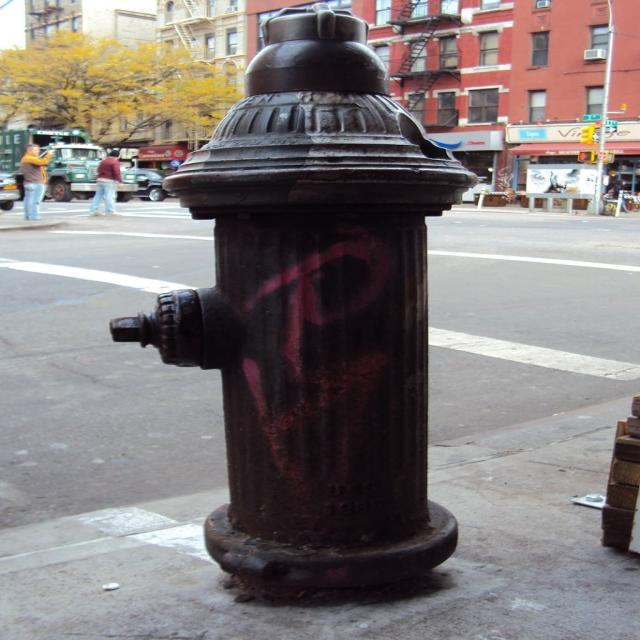fire_hydrant: (157, 53, 529, 583)
